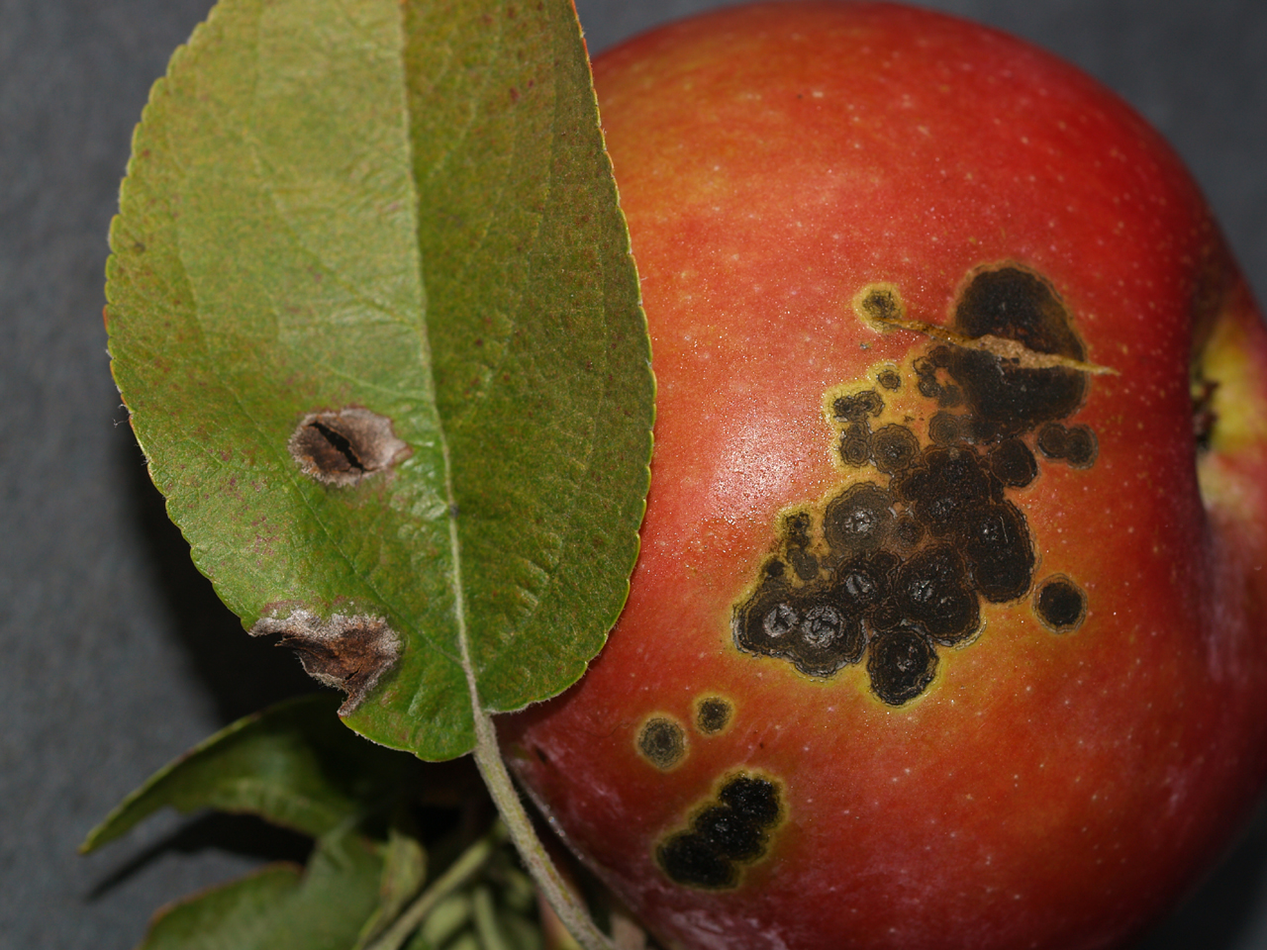defect: (743, 242, 1106, 705), (616, 701, 794, 890)
